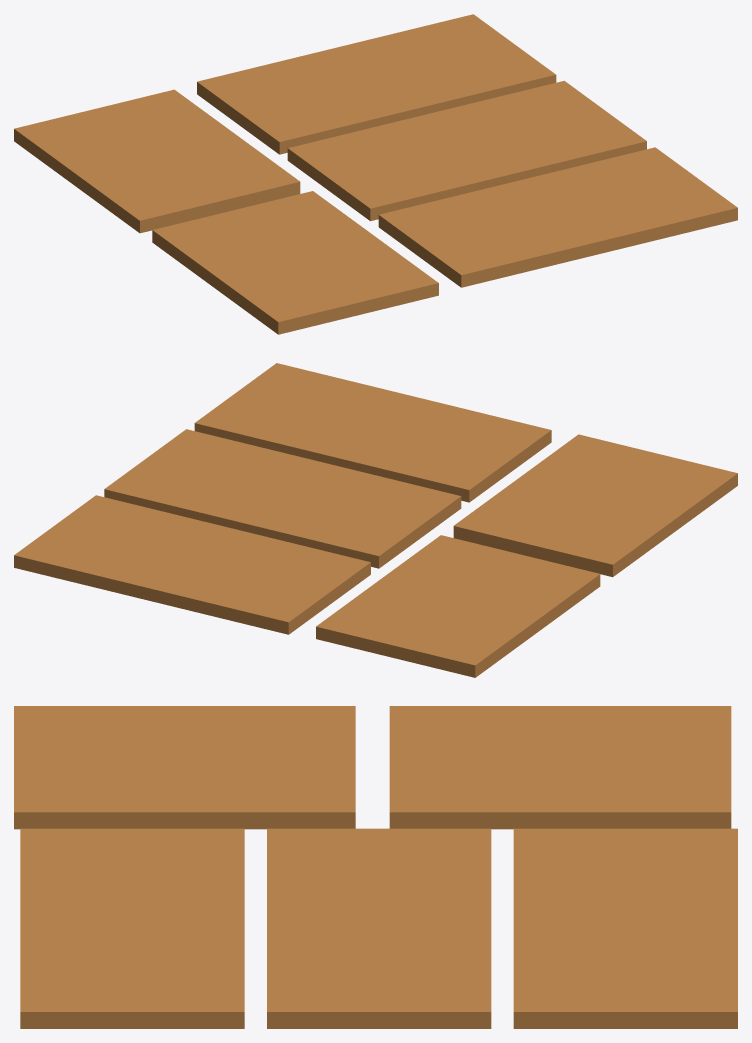
Rendered from Field.fbx.
3 views of the same model, one above another, from view 1: azimuth 30°, elevation 25°; view 2: azimuth 150°, elevation 25°; view 3: azimuth 270°, elevation 25° (orthographic). The views are drawn at different scales.
Parts seen in each view (by area): view 1: Weather; view 2: Weather; view 3: Weather.
Part boxes in pixels (left/top/right/bottom): Weather: left=14, top=14, right=737, bottom=334; Weather: left=14, top=363, right=737, bottom=677; Weather: left=14, top=706, right=737, bottom=1028.
Bounding box in the file's own units: 154 × 4 × 154.
